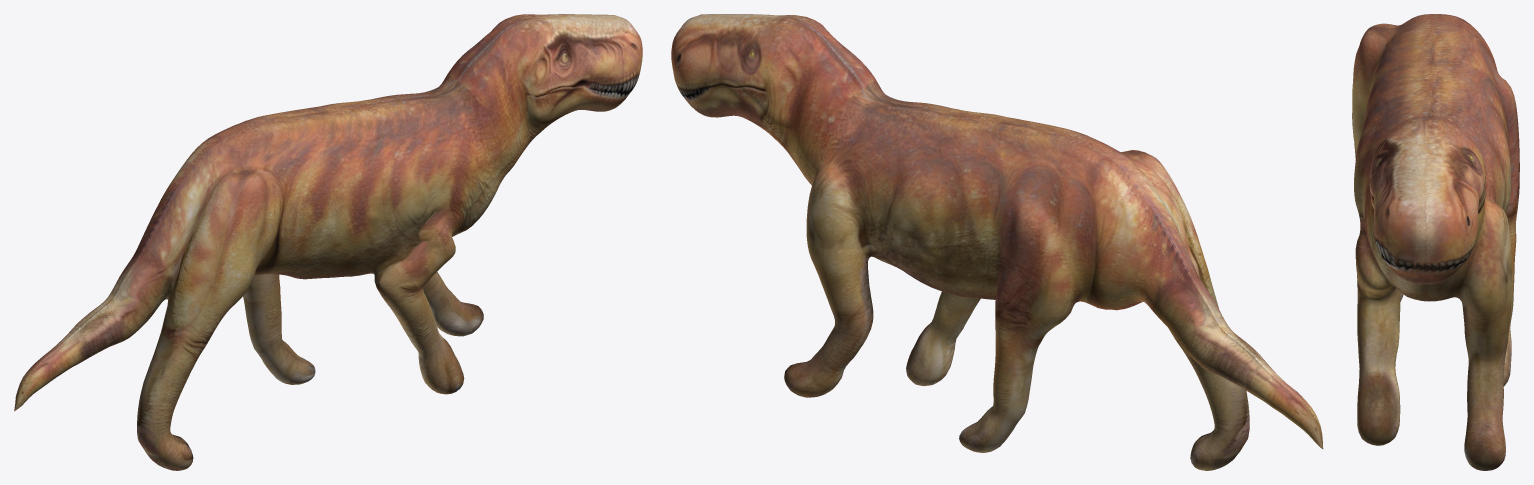
3 views of the same model, side by side, from view 1: azimuth 30°, elevation 25°; view 2: azimuth 150°, elevation 25°; view 3: azimuth 270°, elevation 25° (orthographic). The views are drawn at different scales.
Parts seen in each view (by area): view 1: Mesh0; view 2: Mesh0; view 3: Mesh0.
Boxes of the visible parts, x1,y1,x2,y2 form: Mesh0: (14, 14, 642, 470); Mesh0: (671, 14, 1323, 470); Mesh0: (1352, 14, 1519, 470).
Size of the model in its own units: 1.15 by 0.6198 by 0.2393.
1 material, 1 textured.
